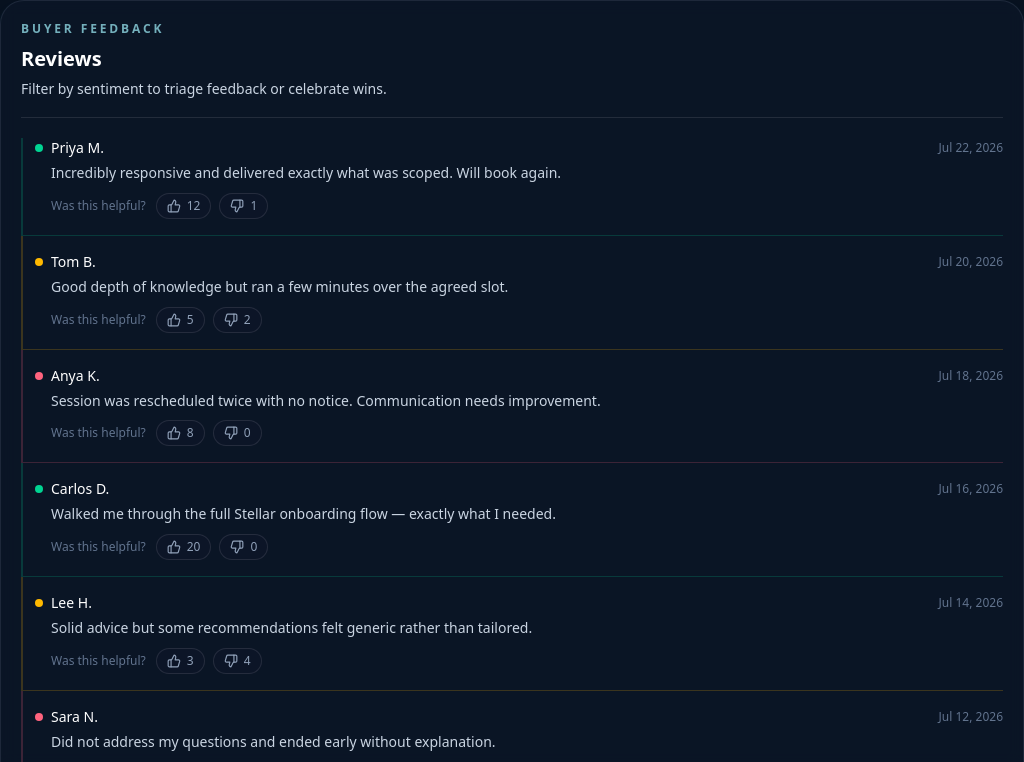
Test: ReviewsPanel – ReviewVoteButtons integration › updates helpful count optimistically when a vote button is clicked
The width and height of the screenshot is (1024, 762).
Click the button named "mark review as helpful". click: (184, 206)
box: [156,193,212,219]
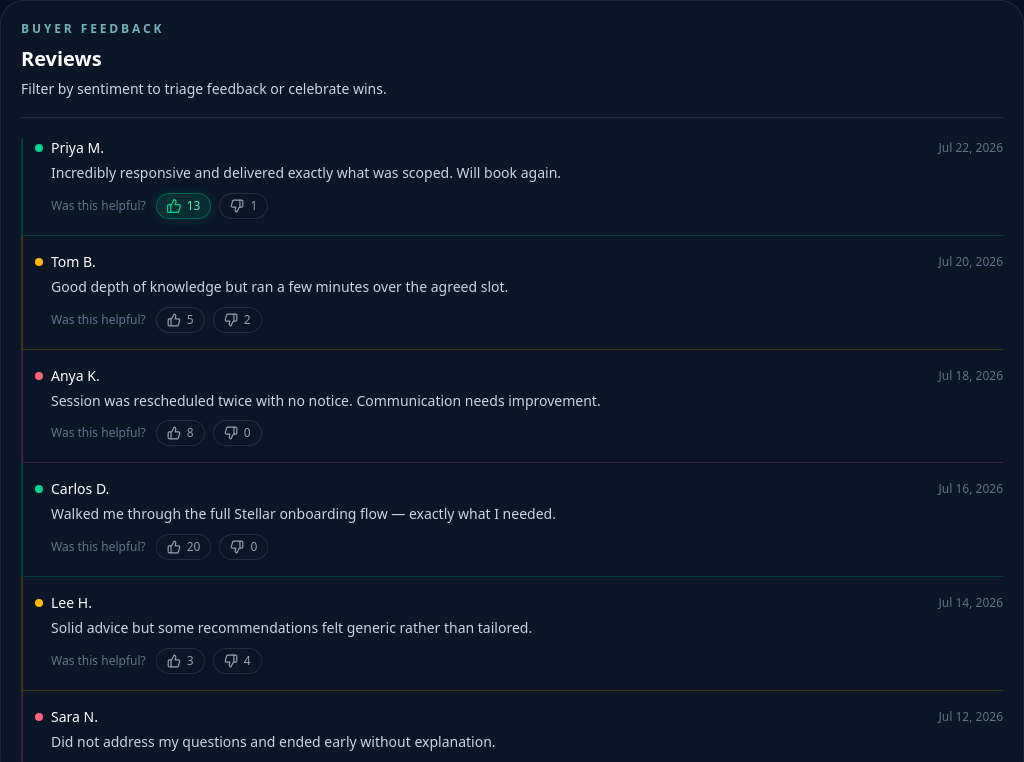
Expected: the button named "mark review as helpful" reads "13", [156,193,212,219]
